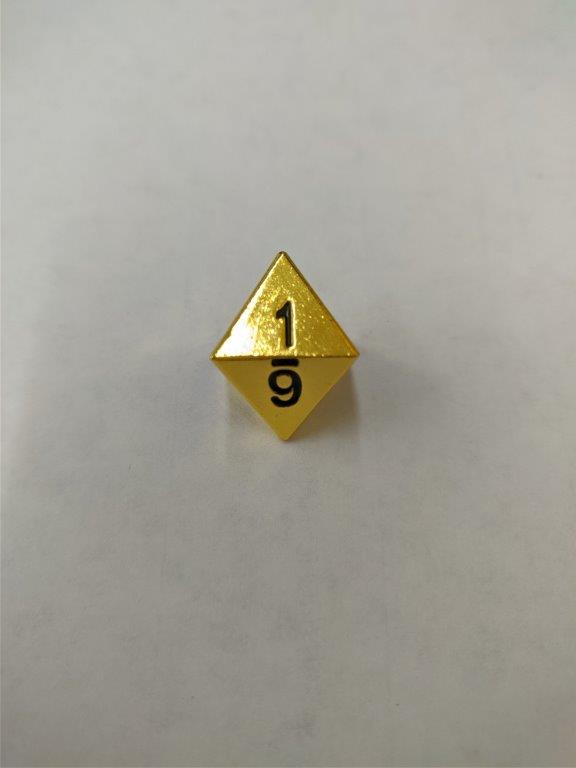d8-1: (205, 247, 361, 446)
